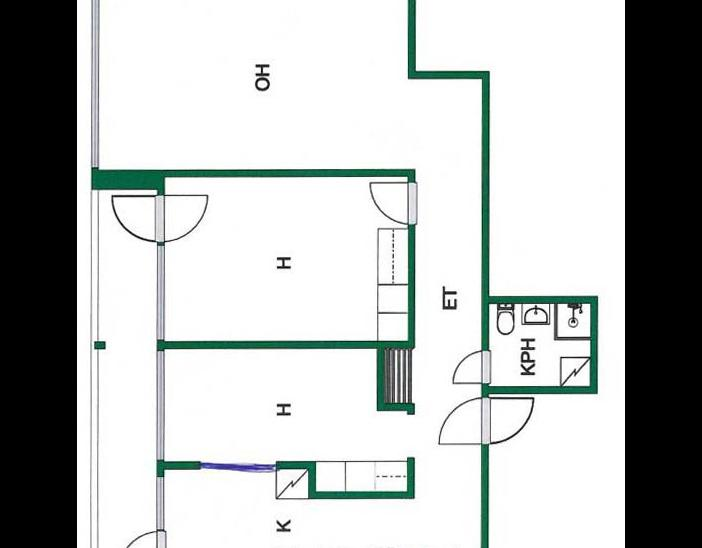door: (432, 396, 492, 449), (109, 188, 165, 244), (155, 190, 211, 245), (481, 394, 538, 446), (368, 180, 421, 228), (450, 347, 493, 387), (114, 527, 170, 548)
window: (88, 0, 102, 170), (153, 344, 167, 465), (154, 242, 168, 344), (150, 470, 169, 532)
